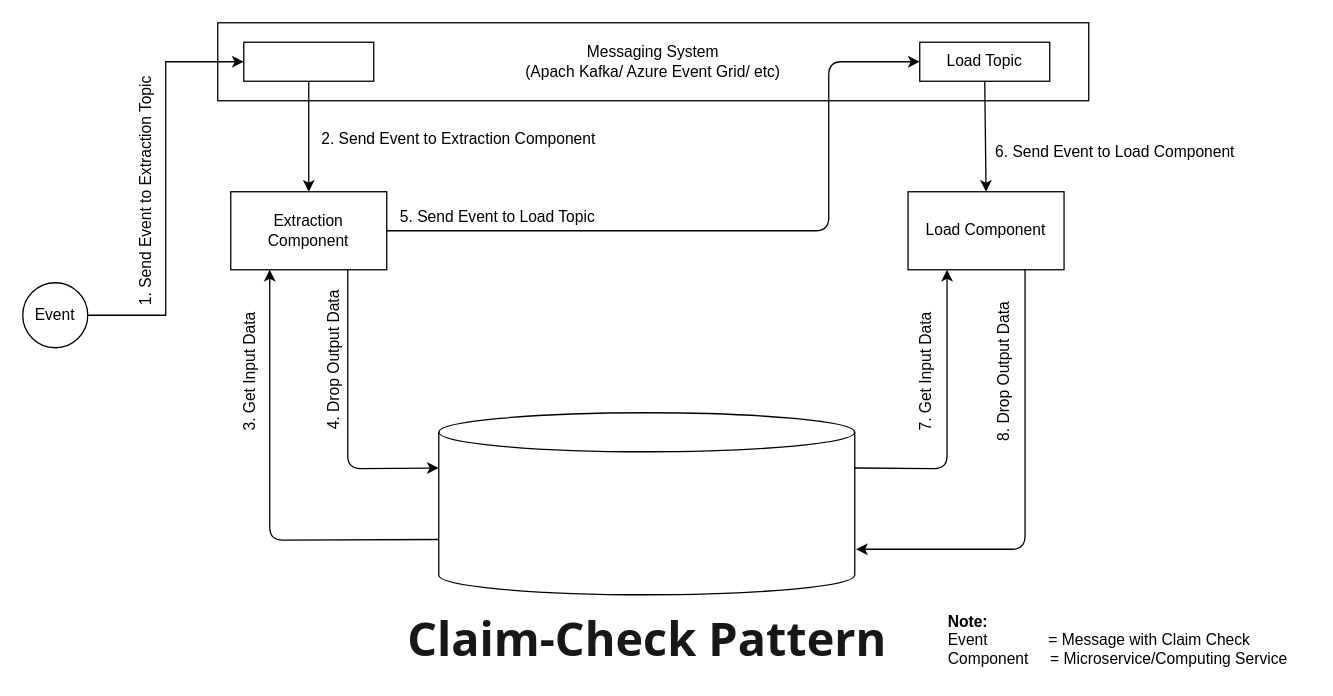
Some shapes in this 1333 by 696 pixel diagram are drawn without their labels. The centre of each missing label's shape, as x and y in pixels:
"Common Storage" belongs at (646,503).
"Extraction Topic" belongs at (308,61).
